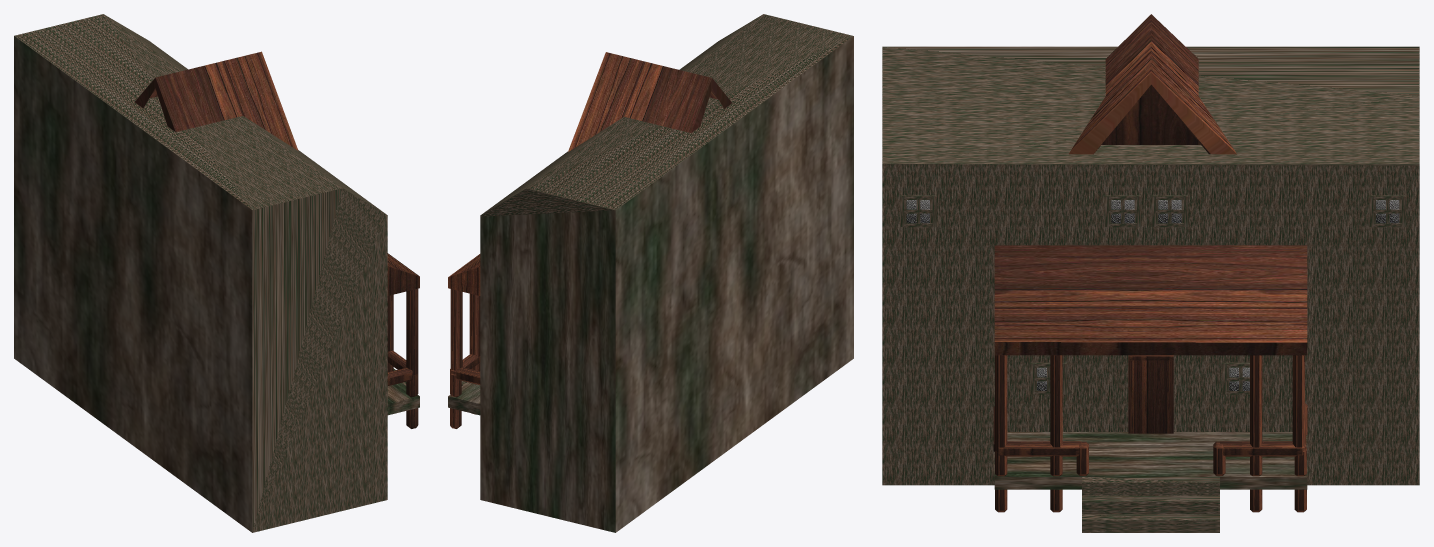
The model's file is housetest.fbx.
3 renders of one model, left to right at view 1: azimuth 30°, elevation 25°; view 2: azimuth 150°, elevation 25°; view 3: azimuth 270°, elevation 25°, orthographic. The views are drawn at different scales.
Parts seen in each view (by area): view 1: pCube17, pCube28, pCube22, pCube26, pCube4; view 2: pCube17, pCube28, pCube24, pCube26, pCube4, pCube25; view 3: pCube17, pCube26, pCube4, pCube28, pCube29, pCube27, pCube2, pCube1, pCube3, pCube22, pCube24, pCube23 (+3 smaller).
Part boxes in pixels (bbox=[...]): pCube17: bbox=[14, 14, 387, 532]; pCube28: bbox=[135, 51, 298, 150]; pCube22: bbox=[406, 288, 418, 375]; pCube26: bbox=[387, 253, 419, 295]; pCube4: bbox=[387, 383, 419, 415]; pCube17: bbox=[480, 14, 853, 532]; pCube28: bbox=[568, 52, 731, 151]; pCube24: bbox=[450, 289, 462, 370]; pCube26: bbox=[448, 254, 480, 295]; pCube4: bbox=[448, 382, 480, 415]; pCube25: bbox=[469, 293, 480, 356]; pCube17: bbox=[882, 46, 1419, 485]; pCube26: bbox=[994, 245, 1307, 355]; pCube4: bbox=[994, 432, 1307, 489]; pCube28: bbox=[1069, 14, 1236, 154]; pCube29: bbox=[1130, 360, 1171, 433]; pCube27: bbox=[1102, 84, 1200, 144]; pCube2: bbox=[1082, 495, 1219, 514]; pCube1: bbox=[1082, 514, 1219, 532]; pCube3: bbox=[1082, 477, 1219, 495]; pCube22: bbox=[995, 355, 1007, 451]; pCube24: bbox=[1292, 355, 1304, 447]; pCube23: bbox=[1050, 355, 1062, 447].
Bounding box in the file's own units: 23.09 × 32.16 × 38.32.
Materials: 3 (3 with a texture image).
